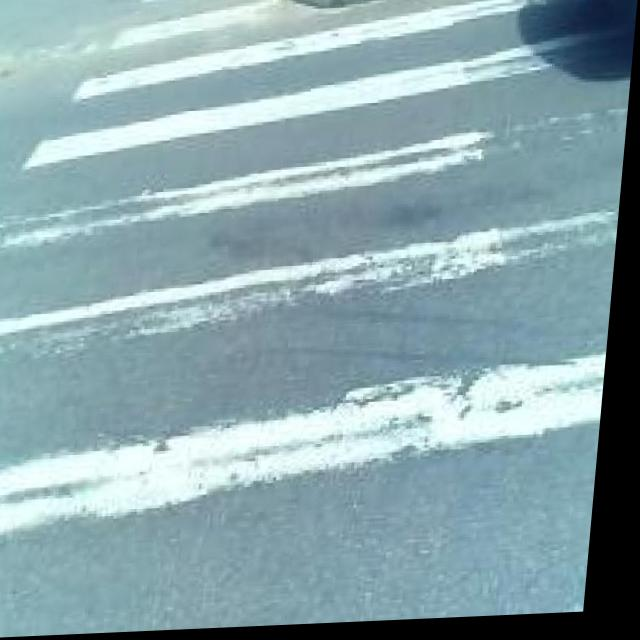zebra: (60, 49, 462, 625)
